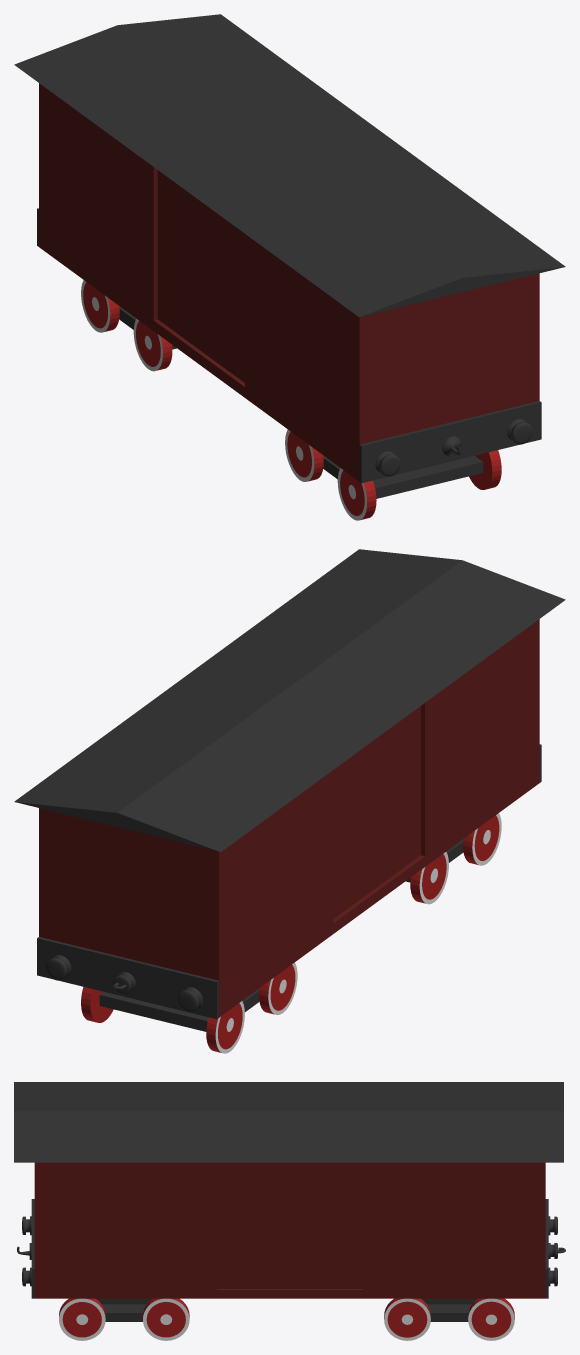
The model's file is Freight Wagon, Close.fbx.
3 renders of one model, top to bottom at view 1: azimuth 30°, elevation 25°; view 2: azimuth 150°, elevation 25°; view 3: azimuth 270°, elevation 25°, orthographic. The views are drawn at different scales.
Parts seen in each view (by area): view 1: Freight Wagon, Close; view 2: Freight Wagon, Close; view 3: Freight Wagon, Close.
Boxes of the visible parts, x1,y1,x2,y2 form: Freight Wagon, Close: (14, 14, 565, 520); Freight Wagon, Close: (14, 549, 565, 1053); Freight Wagon, Close: (14, 1082, 565, 1340).
Size of the model in its own units: 469 by 554 by 1360.
